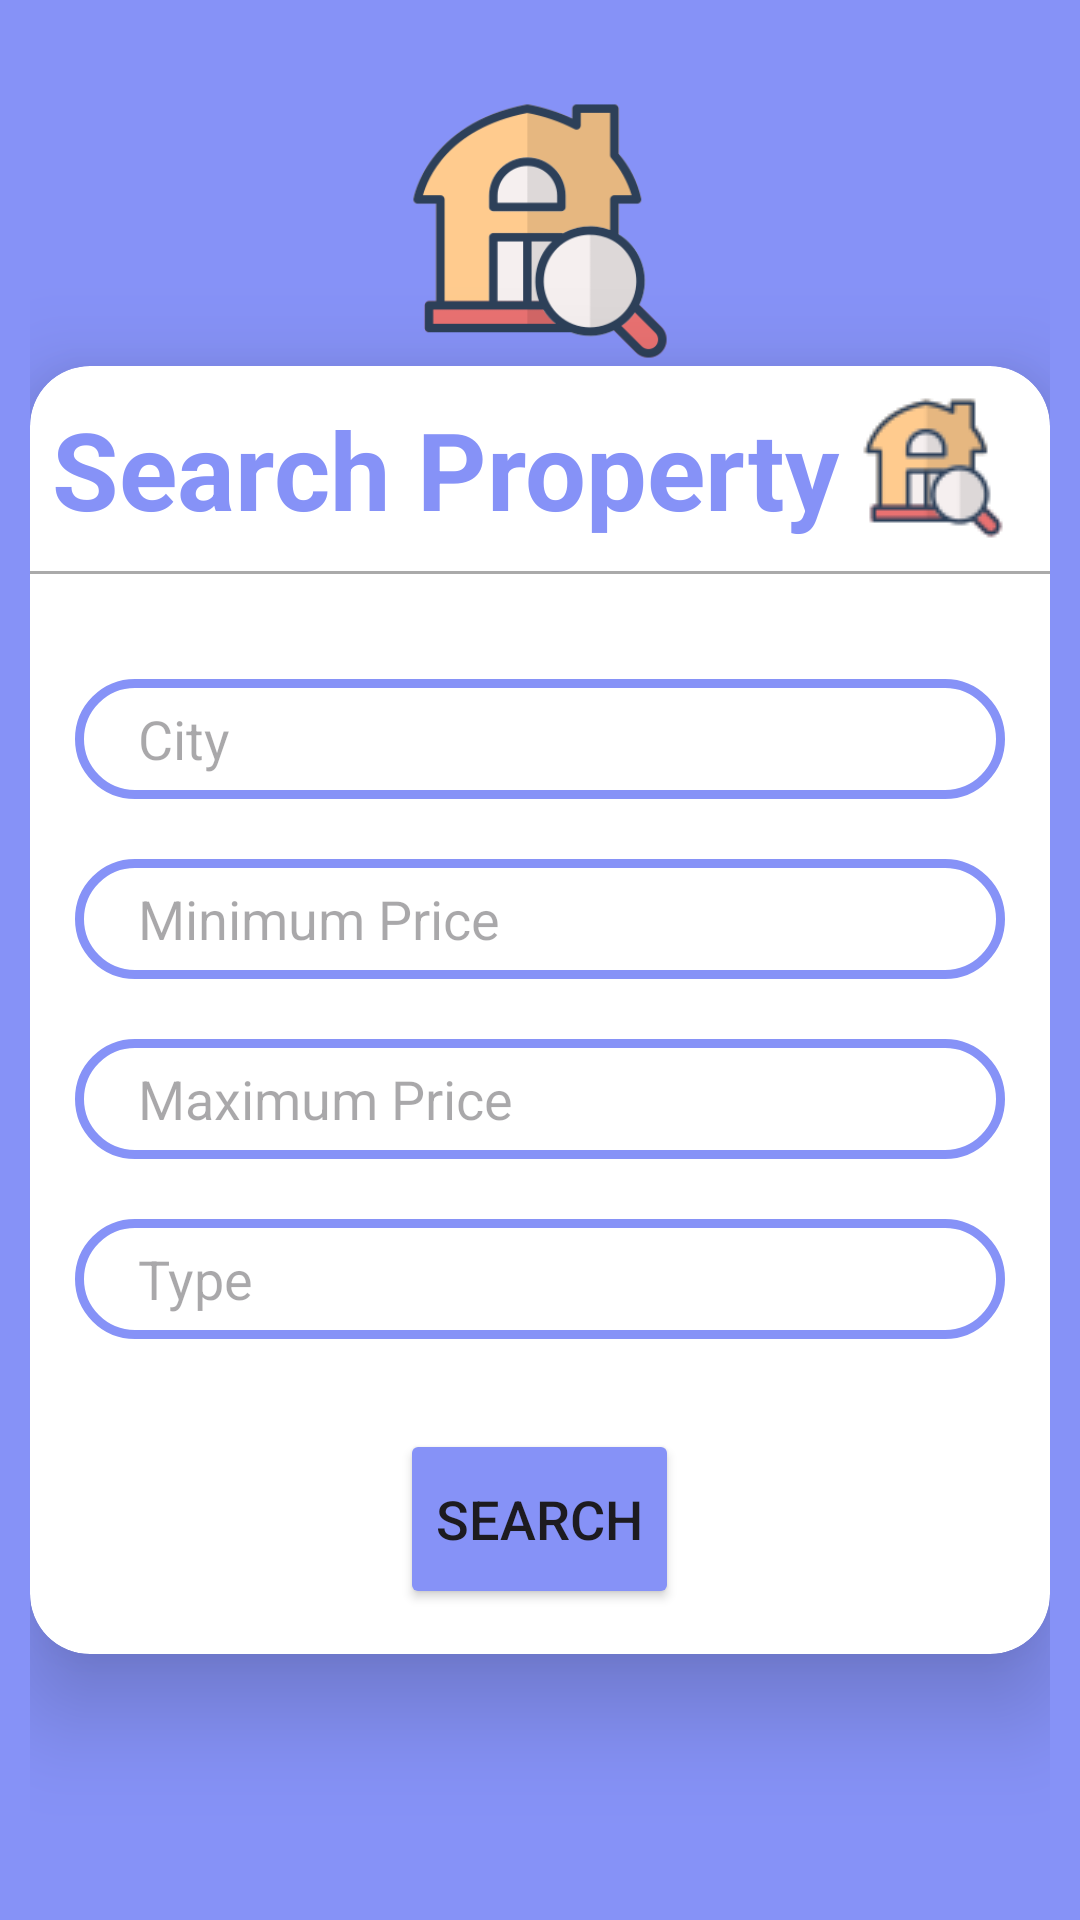

Named icons in this screenshot (1080 × 1920) and their bounding boxes, box=[x1, y1, x2, y2]:
search home: box=[413, 104, 667, 358]
